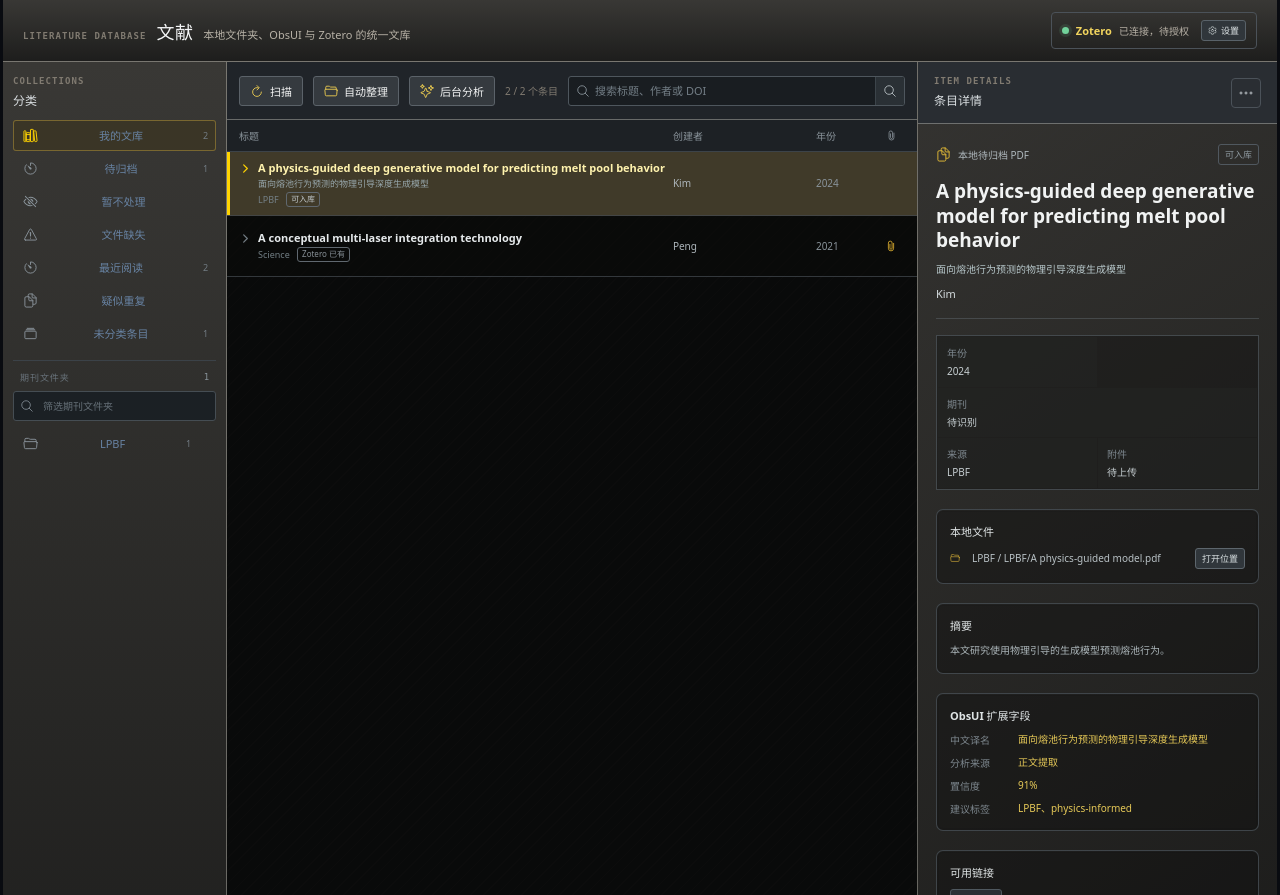
it: 文献 V2 页面 › does not load translation providers when selection translation is disabled
Check: the number of options with class "literature-item-row" is 2, box 227,152 -> 917,216; 227,216 -> 917,277
Step 1. Double-click the 1st element with class "literature-item-title" → (462, 168), box 239,160 -> 665,207
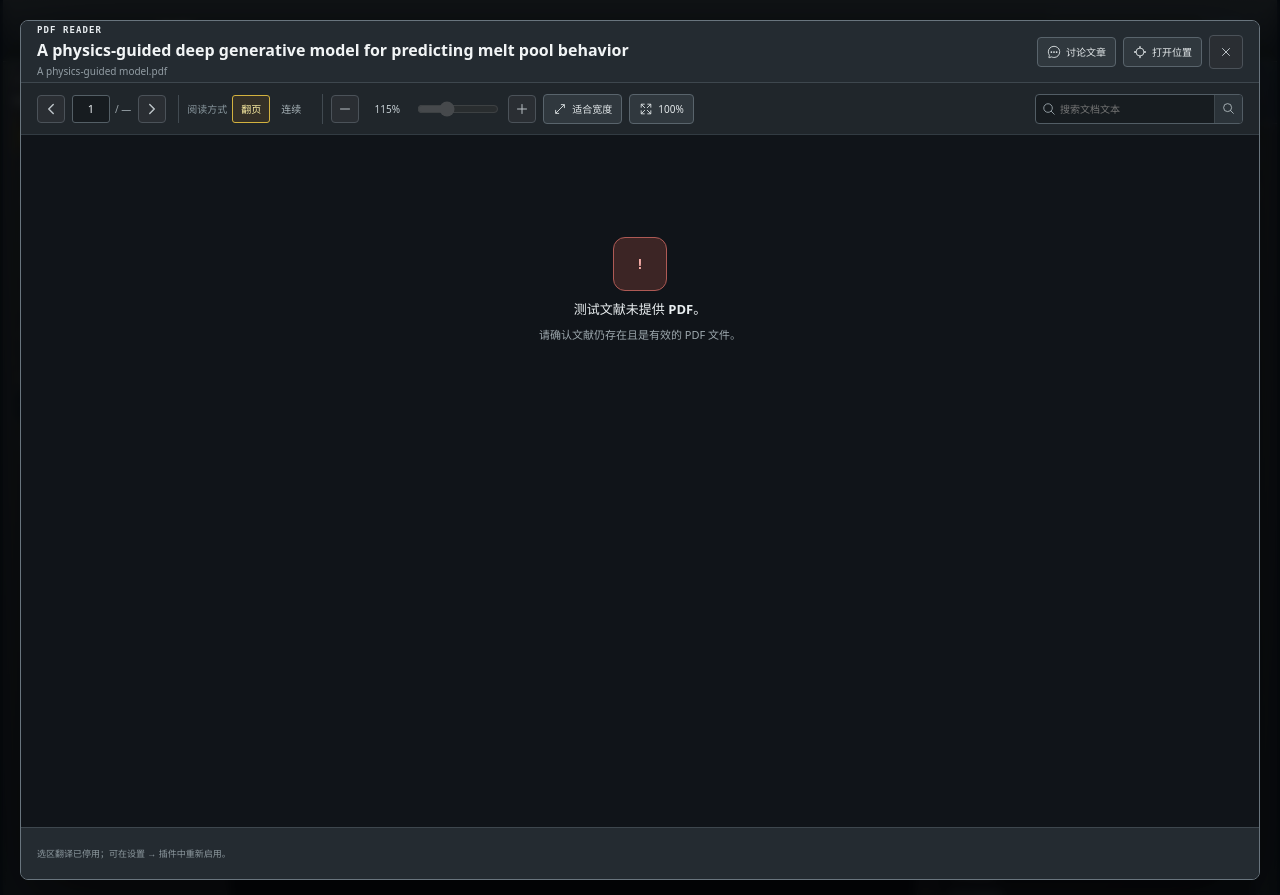
Check: the text "选区翻译已停用" is shown, box 37,847 -> 231,860
